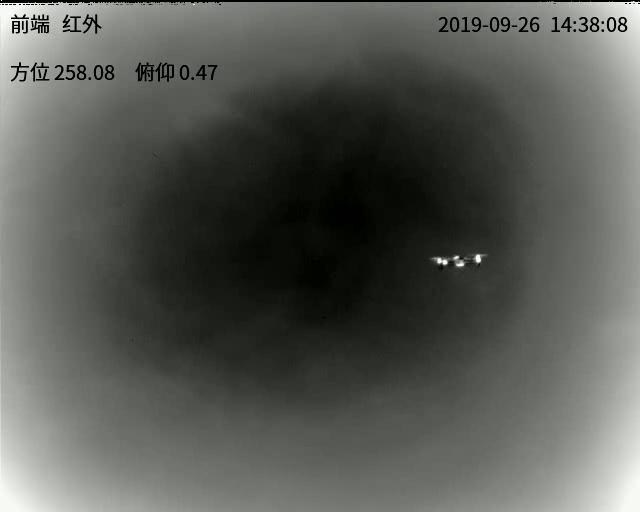DRONE: (432, 252, 485, 269)
